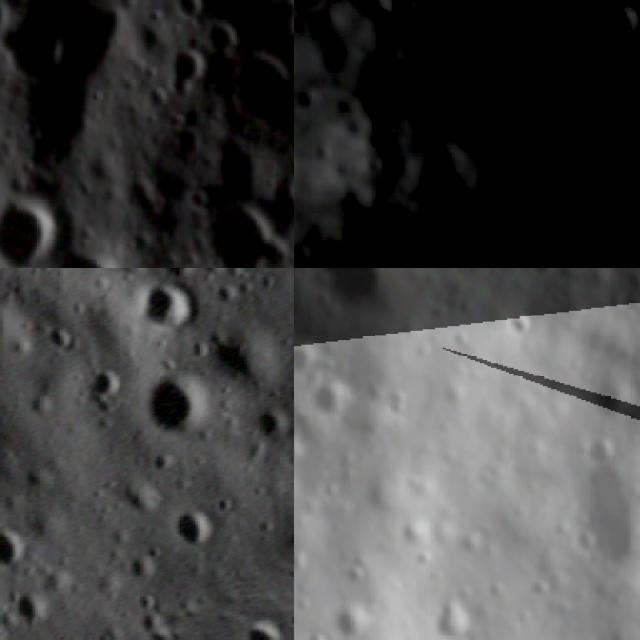crater: (124, 353, 223, 451), (117, 268, 210, 355), (221, 49, 294, 137), (189, 199, 280, 268), (160, 495, 230, 566), (0, 197, 65, 268), (0, 283, 38, 392), (75, 358, 135, 423), (0, 581, 58, 640), (588, 0, 640, 63), (158, 51, 215, 103), (0, 515, 38, 581), (120, 540, 166, 586), (45, 242, 119, 268), (363, 0, 410, 34), (495, 183, 529, 230), (144, 268, 219, 289), (199, 20, 237, 60), (543, 130, 577, 169), (426, 235, 463, 268), (163, 0, 207, 27), (131, 584, 165, 618), (508, 314, 542, 345), (347, 218, 378, 250), (568, 203, 603, 230), (590, 434, 623, 462), (531, 47, 555, 75), (314, 138, 337, 167), (617, 210, 640, 234), (75, 629, 121, 640), (334, 163, 354, 187), (438, 4, 459, 26), (419, 70, 438, 92), (370, 153, 384, 180)
